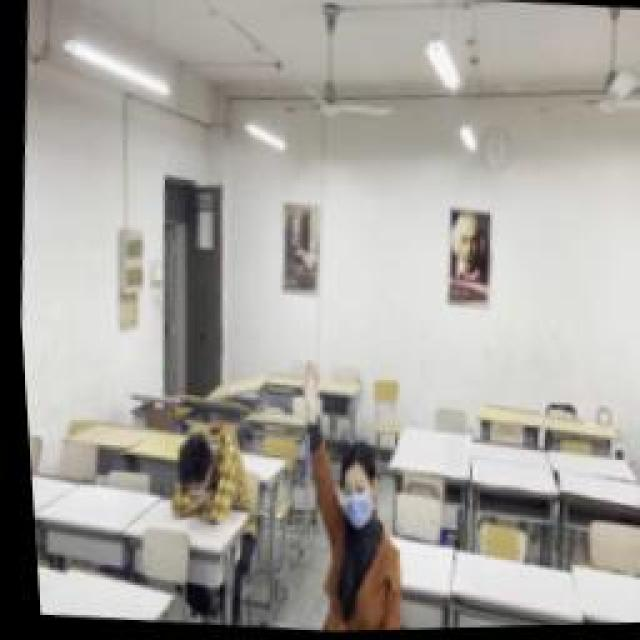sleep: (160, 422, 255, 528)
study: (272, 360, 418, 635)
